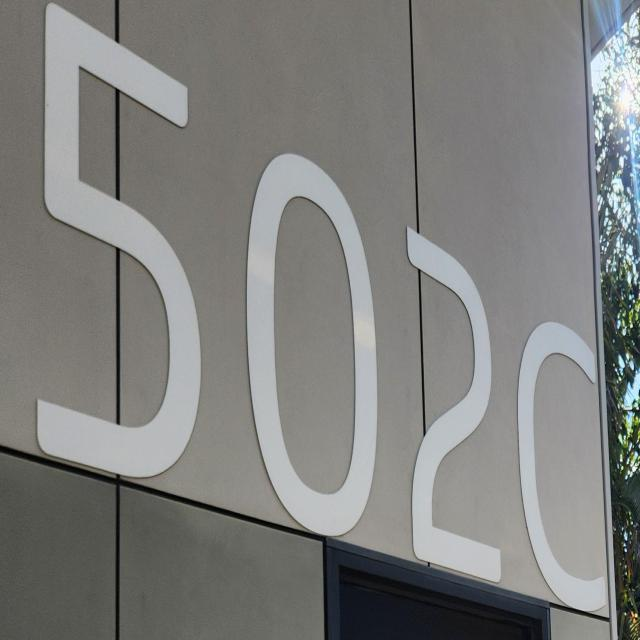character: (35, 0, 205, 490), (244, 145, 380, 542), (404, 219, 504, 586), (516, 318, 612, 616)
